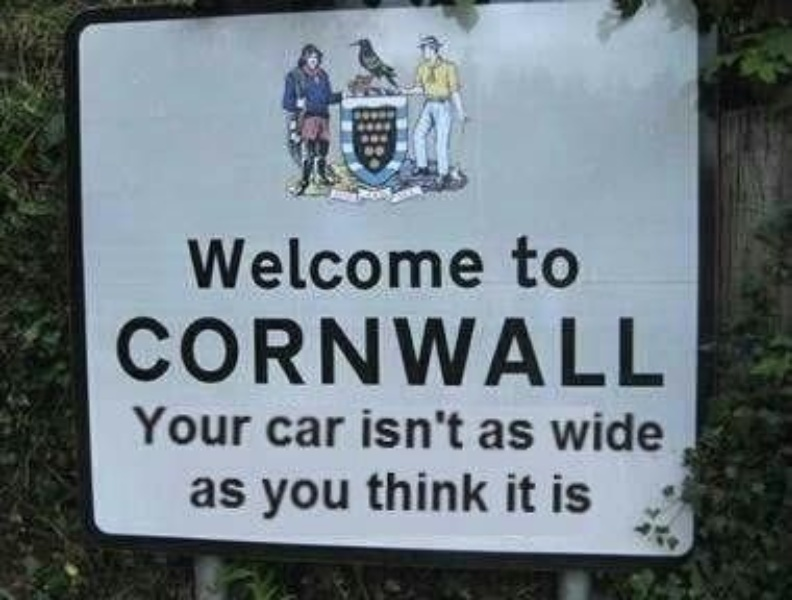text: (113, 315, 128, 388), (129, 315, 144, 388), (145, 315, 160, 388), (161, 315, 176, 388), (177, 315, 192, 388), (193, 315, 208, 388), (209, 315, 224, 388), (225, 315, 240, 388), (241, 315, 256, 388), (257, 315, 272, 388), (273, 315, 288, 388), (289, 315, 304, 388), (305, 315, 320, 388), (321, 315, 336, 388), (337, 315, 352, 388), (353, 315, 368, 388), (369, 315, 384, 388), (385, 315, 400, 388), (401, 315, 416, 388), (417, 315, 432, 388), (433, 315, 448, 388), (449, 315, 464, 388), (465, 315, 480, 388), (481, 315, 496, 388), (497, 315, 512, 388), (513, 315, 528, 388), (529, 315, 544, 388), (545, 315, 560, 388), (561, 315, 576, 388), (577, 315, 592, 388), (593, 315, 608, 388), (609, 315, 624, 388), (625, 315, 640, 388), (641, 315, 656, 388), (513, 232, 528, 290), (529, 232, 544, 290), (545, 232, 560, 290), (561, 232, 576, 290), (193, 236, 208, 290), (209, 236, 224, 290), (225, 236, 240, 290), (241, 236, 256, 290), (257, 236, 272, 290), (273, 236, 288, 290), (289, 236, 304, 290), (305, 236, 320, 290), (321, 236, 336, 290), (337, 236, 352, 290), (353, 236, 368, 290), (369, 236, 384, 290), (385, 236, 400, 290), (401, 236, 416, 290), (417, 236, 432, 290), (433, 236, 448, 290), (449, 236, 464, 290), (465, 236, 480, 290), (561, 409, 576, 455), (577, 409, 592, 455), (593, 409, 608, 455), (609, 409, 624, 455), (625, 409, 640, 455), (641, 409, 656, 455), (369, 469, 384, 515), (385, 469, 400, 515), (401, 469, 416, 515), (417, 469, 432, 515), (433, 469, 448, 515), (449, 469, 464, 515), (465, 469, 480, 515), (145, 403, 160, 448), (161, 403, 176, 448), (177, 403, 192, 448), (193, 403, 208, 448), (209, 403, 224, 448), (225, 403, 240, 448), (273, 476, 288, 519), (289, 476, 304, 519), (305, 476, 320, 519), (321, 476, 336, 519), (369, 409, 384, 451), (385, 409, 400, 451), (401, 409, 416, 451), (417, 409, 432, 451), (433, 409, 448, 451), (449, 409, 464, 451), (513, 471, 528, 513), (561, 473, 576, 515), (657, 315, 665, 388), (273, 413, 288, 451), (289, 413, 304, 451), (305, 413, 320, 451), (321, 413, 336, 451), (193, 473, 208, 511), (209, 473, 224, 511), (225, 473, 240, 511), (577, 473, 590, 515), (132, 403, 144, 448), (241, 403, 253, 448), (337, 476, 349, 519), (549, 409, 560, 455), (481, 419, 496, 451), (497, 419, 512, 451), (513, 419, 528, 451), (261, 476, 272, 519), (529, 471, 540, 513), (184, 236, 192, 290), (551, 473, 560, 515), (657, 409, 665, 455), (263, 413, 272, 451), (337, 413, 346, 451), (481, 469, 488, 515), (241, 473, 249, 511), (361, 409, 368, 451), (505, 471, 512, 513), (529, 419, 536, 451), (509, 232, 512, 290), (577, 232, 580, 290), (481, 236, 484, 290), (465, 409, 467, 451), (111, 315, 112, 388), (478, 419, 480, 451), (367, 469, 368, 515)
